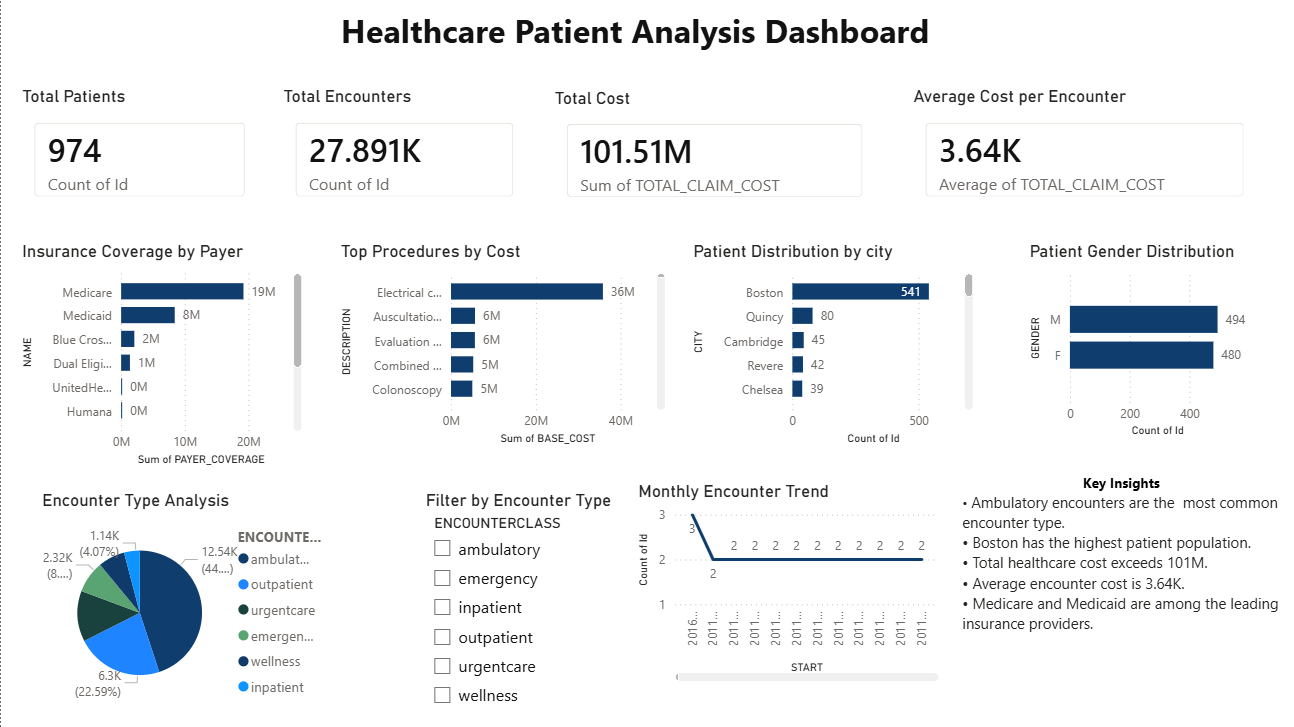

What the dashboard file says about the page in this screenshot:
{"tool":"powerbi","page":{"name":"Page 1","canvas":[1280,720],"ordinal":0},"visuals":[{"type":"cardVisual","title":"Total Patients","fields":{"Data":["CountNonNull(project_hosp patient.Id)"]},"box":[15.9,85.6,242.1,127.2],"z":0},{"type":"cardVisual","title":"Total Encounters","fields":{"Data":["CountNonNull(project_hosp encounters.Id)"]},"box":[273.9,85.6,249.5,127.2],"z":1000},{"type":"cardVisual","title":"Total Cost","fields":{"Data":["Sum(project_hosp encounters.TOTAL_CLAIM_COST)"]},"box":[541.7,86.8,326.5,126],"z":2000},{"type":"clusteredBarChart","title":"Patient Gender Distribution","fields":{"Category":["project_hosp patient.GENDER"],"Y":["CountNonNull(project_hosp patient.Id)"]},"box":[1011.3,238.5,233.6,198.1],"z":3000},{"type":"pieChart","title":"Encounter Type Analysis","fields":{"Category":["project_hosp encounters.ENCOUNTERCLASS"],"Y":["CountNonNull(project_hosp encounters.Id)"]},"box":[35.5,484.2,295.9,223.8],"z":4000},{"type":"clusteredBarChart","title":"Insurance Coverage by Payer","fields":{"Category":["project_hosp payers.NAME"],"Y":["Sum(project_hosp encounters.PAYER_COVERAGE)"]},"box":[15.9,238.5,286.1,226.2],"z":5000},{"type":"clusteredBarChart","title":"Top Procedures by Cost","fields":{"Category":["project_hosp procedures.DESCRIPTION"],"Y":["Sum(project_hosp procedures.BASE_COST)"]},"box":[331.4,238.5,330.2,205.4],"z":6000},{"type":"clusteredBarChart","title":"Patient Distribution by city","fields":{"Category":["project_hosp patient.CITY"],"Y":["CountNonNull(project_hosp patient.Id)"]},"box":[678.7,238.5,286.1,205.4],"z":7000},{"type":"cardVisual","title":"Average Cost per Encounter","fields":{"Data":["Avg(project_hosp encounters.TOTAL_CLAIM_COST)"]},"box":[896.3,85.6,348.5,127.2],"z":8000},{"type":"slicer","title":"Filter by Encounter Type","fields":{"Values":["project_hosp encounters.ENCOUNTERCLASS"]},"box":[414.5,484.2,299.6,223.8],"z":9000},{"type":"lineChart","title":"Monthly Encounter Trend","fields":{"Category":["project_hosp encounters.START"],"Y":["CountNonNull(project_hosp encounters.Id)"]},"box":[624.4,475.6,306.4,202.6],"z":10000},{"type":"textbox","box":[330.8,3.8,739.7,71.8],"z":11000},{"type":"textbox","box":[944.9,462.8,324.4,215.4],"z":11001}]}

Visuals, with their boxes in screenshot pixels (x1, y1, x2, y2), scaled from the page's 1280x720 canvas onto the 1294x727 screenshot:
"Total Patients" cardVisual: (16,86,261,215)
"Total Encounters" cardVisual: (277,86,529,215)
"Total Cost" cardVisual: (548,88,878,215)
"Patient Gender Distribution" clusteredBarChart: (1022,241,1259,441)
"Encounter Type Analysis" pieChart: (36,489,335,715)
"Insurance Coverage by Payer" clusteredBarChart: (16,241,305,469)
"Top Procedures by Cost" clusteredBarChart: (335,241,669,448)
"Patient Distribution by city" clusteredBarChart: (686,241,975,448)
"Average Cost per Encounter" cardVisual: (906,86,1258,215)
"Filter by Encounter Type" slicer: (419,489,722,715)
"Monthly Encounter Trend" lineChart: (631,480,941,685)
textbox: (334,4,1082,76)
textbox: (955,467,1283,685)
